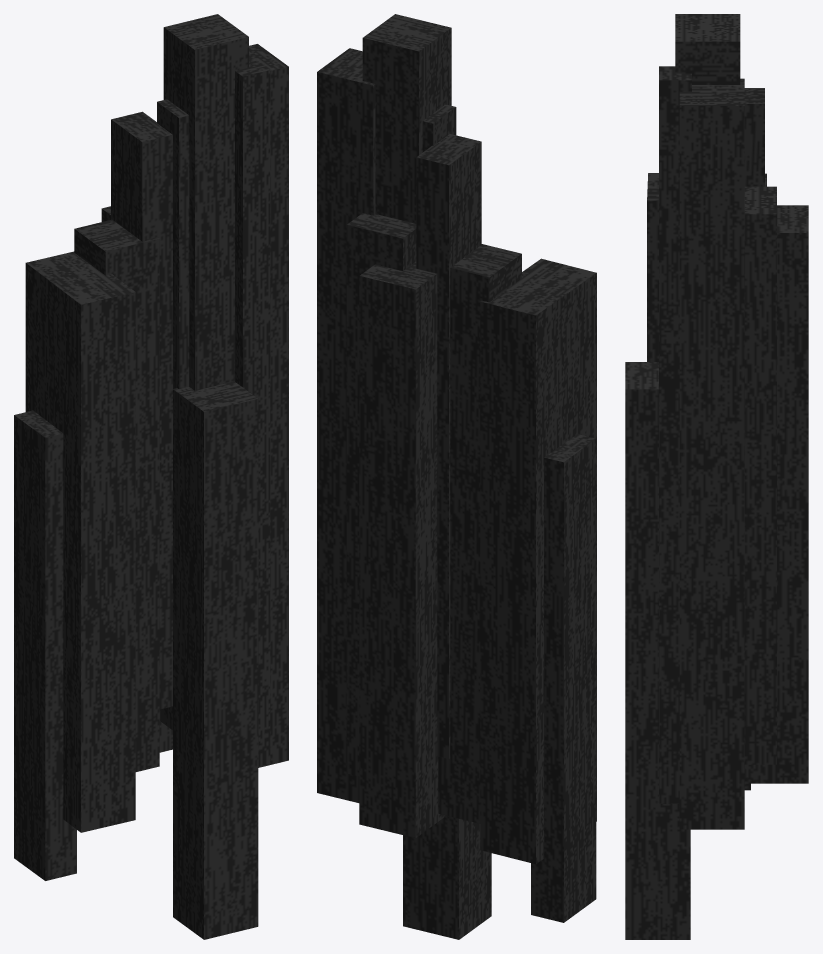
Rendered from rods3.fbx.
3 views of the same model, side by side, from view 1: azimuth 30°, elevation 25°; view 2: azimuth 150°, elevation 25°; view 3: azimuth 270°, elevation 25° (orthographic). The views are drawn at different scales.
Parts seen in each view (by area): view 1: Cube.009; view 2: Cube.009; view 3: Cube.009.
Boxes of the visible parts, bbox=[...] form: Cube.009: bbox=[14, 14, 288, 939]; Cube.009: bbox=[317, 14, 596, 939]; Cube.009: bbox=[625, 14, 808, 939].
Bounding box in the file's own units: 888 × 3067 × 562.
